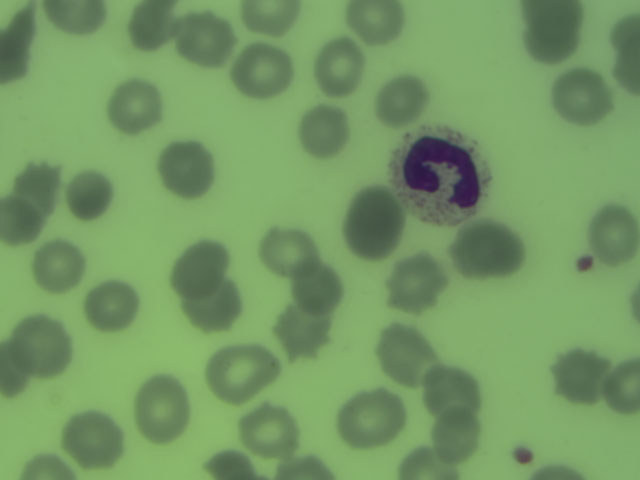Platelets: (508, 440, 540, 470), (574, 251, 597, 278)
RBC: (454, 223, 518, 278), (208, 346, 274, 399), (136, 377, 189, 440), (390, 257, 444, 311), (550, 349, 604, 403), (431, 408, 485, 462), (427, 367, 481, 421), (380, 331, 434, 385), (343, 391, 397, 445), (584, 207, 638, 261), (553, 69, 607, 123), (525, 3, 579, 57), (239, 403, 293, 457), (275, 306, 329, 360), (290, 259, 344, 313), (256, 222, 310, 276), (183, 277, 237, 331), (170, 240, 224, 294), (64, 413, 118, 467), (84, 278, 138, 332), (15, 316, 69, 370), (30, 239, 84, 293), (161, 142, 215, 196), (60, 168, 114, 222), (10, 155, 64, 209), (108, 80, 162, 134), (375, 71, 429, 125), (299, 102, 353, 156), (313, 40, 367, 94), (237, 44, 291, 98), (179, 10, 233, 64), (343, 198, 397, 252), (125, 1, 179, 54), (598, 357, 640, 421), (1, 11, 35, 86), (347, 1, 406, 42), (238, 1, 305, 37), (399, 443, 460, 480), (45, 1, 109, 36), (1, 333, 32, 404), (1, 197, 45, 245), (197, 447, 257, 480), (609, 35, 640, 98), (276, 450, 335, 480), (19, 450, 71, 480)
WBC: (386, 123, 494, 229)
